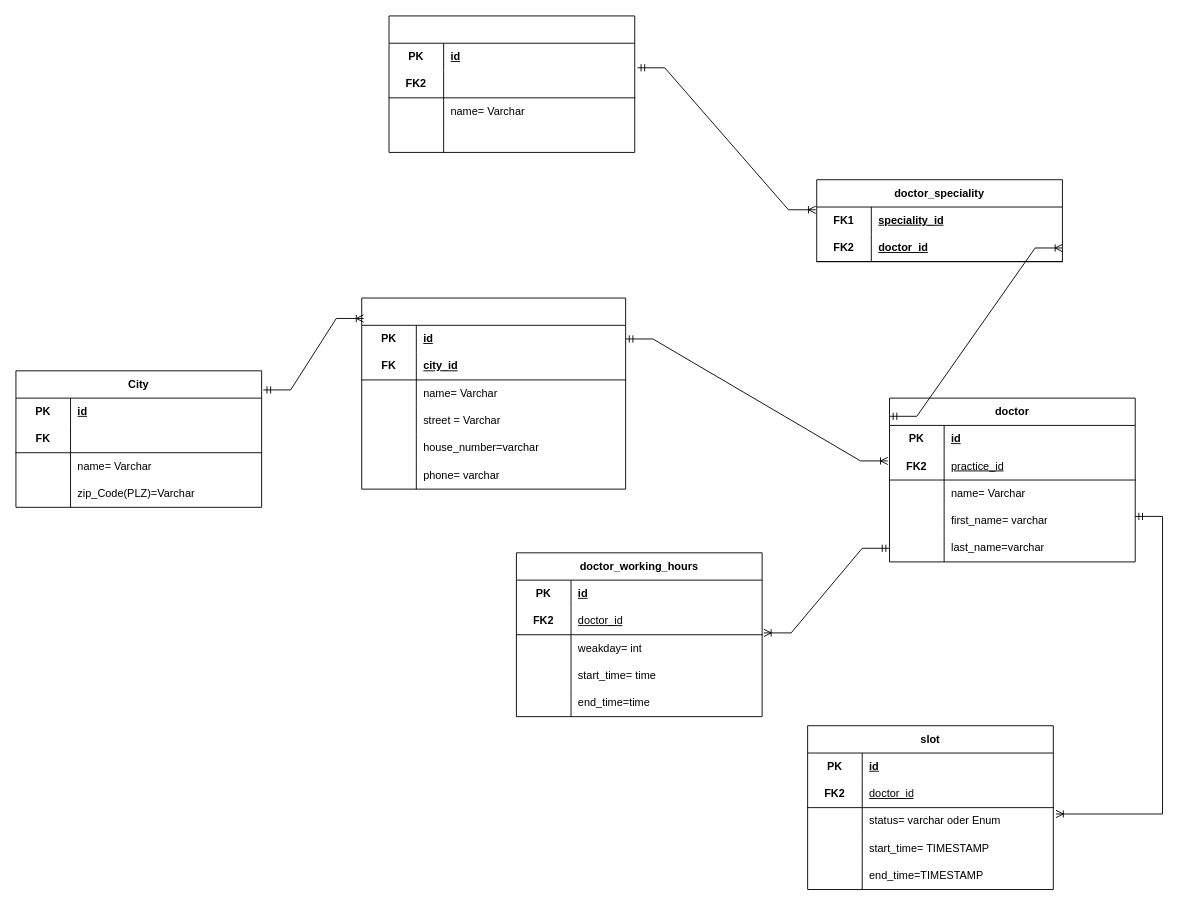
Image size: 1187x905. Some labels were removed from this diagram. Here are the shapes that lost their labels. From the top down, the box of each, then its label:
(388, 15, 635, 152): speciality
(361, 297, 626, 489): Practice
